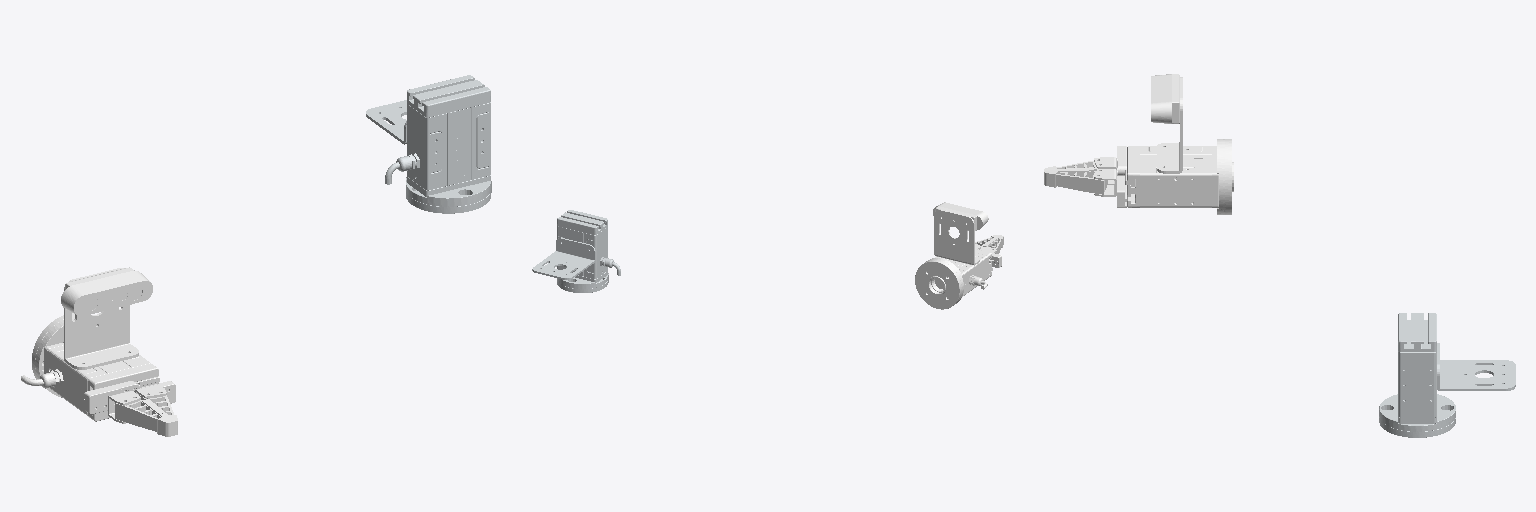
URDF robot description (fr3):
<?xml version="1.0" encoding="utf-8" ?>

<robot name="fr3" xmlns:xacro="http://ros.org/wiki/xacro">
    <link name="base_link">
        
<inertial>
            <origin rpy="0 0 0" xyz="-0.00049027 -0.00045095 0.032527" />
            <mass value="0.78393" />
            <inertia ixx="0.0013854" ixy="1.1455E-05" ixz="-1.0642E-05" iyy="0.0013849" iyz="-9.7435E-06" izz="0.001977" />
        </inertial>

        <visual>
            <origin rpy="0 0 0" xyz="0 0 0" />
            <geometry>
                <mesh filename="package://frcobot_description/meshes/fr3v6/visual/base_link.STL" />
            </geometry>
            <material name="">
                <color rgba="0.89804 0.91765 0.92941 1" />
            </material>
        </visual>
        <collision>
            <origin rpy="0 0 0" xyz="0 0 0" />
            <geometry>
                <mesh filename="package://frcobot_description/meshes/fr3v6/visual/base_link.STL" />
            </geometry>
        </collision>
    </link>
    <link name="link1">
        
<inertial>
            <origin rpy="0 0 0" xyz="-3.8658E-07 -0.0024176 0.13519" />
            <mass value="0.021225" />
            <inertia ixx="0.0033227" ixy="-5.0648E-08" ixz="-6.3401E-09" iyy="0.0032419" iyz="4.3768E-05" izz="0.0023129" />
        </inertial>

        <visual>
            <origin rpy="0 0 0" xyz="0 0 0" />
            <geometry>
                <mesh filename="package://frcobot_description/meshes/fr3v6/visual/link1.STL" />
            </geometry>
            <material name="">
                <color rgba="0.89804 0.91765 0.92941 1" />
            </material>
        </visual>
        <collision>
            <origin rpy="0 0 0" xyz="0 0 0" />
            <geometry>
                <mesh filename="package://frcobot_description/meshes/fr3v6/visual/link1.STL" />
            </geometry>
        </collision>
    </link>
    <joint name="joint1" type="revolute">
        <origin rpy="0 0 0" xyz="0 0 0" />
        <parent link="base_link" />
        <child link="link1" />
        <axis xyz="0 0 1" />
        <limit effort="28" lower="-3.14" upper="3.14" velocity="3.2" />
    </joint>
    <link name="link2">
        
<inertial>
            <origin rpy="0 0 0" xyz="-0.14111 3.4656E-06 0.11053" />
            <mass value="0.048053" />
            <inertia ixx="0.0075945" ixy="3.7143E-07" ixz="-7.9228E-12" iyy="0.0081317" iyz="-1.2918E-11" izz="0.0059231" />
        </inertial>

        <visual>
            <origin rpy="0 0 0" xyz="0 0 0" />
            <geometry>
                <mesh filename="package://frcobot_description/meshes/fr3v6/visual/link2.STL" />
            </geometry>
            <material name="">
                <color rgba="0.89804 0.91765 0.92941 1" />
            </material>
        </visual>
        <collision>
            <origin rpy="0 0 0" xyz="0 0 0" />
            <geometry>
                <mesh filename="package://frcobot_description/meshes/fr3v6/visual/link2.STL" />
            </geometry>
        </collision>
    </link>
    <joint name="joint2" type="revolute">
        <origin rpy="1.5708 0 0" xyz="0 0 0.1407034" />
        <parent link="link1" />
        <child link="link2" />
        <axis xyz="0 0 1" />
        <limit effort="28" lower="-3.14" upper="3.14" velocity="3.2" />
    </joint>
    <link name="link3">
        
<inertial>
            <origin rpy="0 0 0" xyz="-0.18987 5.2268E-06 0.0034145" />
            <mass value="0.022312" />
            <inertia ixx="0.0028852" ixy="7.3389E-07" ixz="-3.5373E-05" iyy="0.0035145" iyz="-2.8527E-07" izz="0.0029186" />
        </inertial>

        <visual>
            <origin rpy="0 0 0" xyz="0 0 0" />
            <geometry>
                <mesh filename="package://frcobot_description/meshes/fr3v6/visual/link3.STL" />
            </geometry>
            <material name="">
                <color rgba="0.89804 0.91765 0.92941 1" />
            </material>
        </visual>
        <collision>
            <origin rpy="0 0 0" xyz="0 0 0" />
            <geometry>
                <mesh filename="package://frcobot_description/meshes/fr3v6/visual/link3.STL" />
            </geometry>
        </collision>
    </link>
    <joint name="joint3" type="revolute">
        <origin rpy="0 0 0" xyz="-0.2802789 0 0" />
        <parent link="link2" />
        <child link="link3" />
        <axis xyz="0 0 1" />
        <limit effort="28" lower="-3.14" upper="3.14" velocity="3.2" />
    </joint>
    <link name="link4">
        
<inertial>
            <origin rpy="0 0 0" xyz="4.5665E-07 -0.0034666 0.098292" />
            <mass value="0.015961" />
            <inertia ixx="0.0020112" ixy="6.8085E-09" ixz="2.4945E-08" iyy="0.0014524" iyz="3.2511E-05" izz="0.0019076" />
        </inertial>

        <visual>
            <origin rpy="0 0 0" xyz="0 0 0" />
            <geometry>
                <mesh filename="package://frcobot_description/meshes/fr3v6/visual/link4.STL" />
            </geometry>
            <material name="">
                <color rgba="0.89804 0.91765 0.92941 1" />
            </material>
        </visual>
        <collision>
            <origin rpy="0 0 0" xyz="0 0 0" />
            <geometry>
                <mesh filename="package://frcobot_description/meshes/fr3v6/visual/link4.STL" />
            </geometry>
        </collision>
    </link>
    <joint name="joint4" type="revolute">
        <origin rpy="0 0 0" xyz="-0.2413385 0 0" />
        <parent link="link3" />
        <child link="link4" />
        <axis xyz="0 0 1" />
        <limit effort="28" lower="-3.14" upper="3.14" velocity="3.2" />
    </joint>
    <link name="link5">
        
<inertial>
            <origin rpy="0 0 0" xyz="-4.5262E-07 0.0034666 0.098292" />
            <mass value="0.015961" />
            <inertia ixx="0.0020112" ixy="6.8086E-09" ixz="-2.4945E-08" iyy="0.0014524" iyz="-3.2511E-05" izz="0.0019076" />
        </inertial>

        <visual>
            <origin rpy="0 0 0" xyz="0 0 0" />
            <geometry>
                <mesh filename="package://frcobot_description/meshes/fr3v6/visual/link5.STL" />
            </geometry>
            <material name="">
                <color rgba="0.89804 0.91765 0.92941 1" />
            </material>
        </visual>
        <collision>
            <origin rpy="0 0 0" xyz="0 0 0" />
            <geometry>
                <mesh filename="package://frcobot_description/meshes/fr3v6/visual/link5.STL" />
            </geometry>
        </collision>
    </link>
    <joint name="joint5" type="revolute">
        <origin rpy="1.5708 0 0" xyz="0 0 0.1034055" />
        <parent link="link4" />
        <child link="link5" />
        <axis xyz="0 0 1" />
        <limit effort="28" lower="-3.14" upper="3.14" velocity="3.2" />
    </joint>
    <link name="link6">
        
<inertial>
            <origin rpy="0 0 0" xyz="7.559E-05 1.3858E-05 0.076619" />
            <mass value="0.053877" />
            <inertia ixx="0.00028785" ixy="-2.0584E-09" ixz="-1.3892E-07" iyy="0.00028896" iyz="1.8115E-07" izz="0.00042655" />
        </inertial>

        <visual>
            <origin rpy="0 0 0" xyz="0 0 0" />
            <geometry>
                <mesh filename="package://frcobot_description/meshes/fr3v6/visual/link6.STL" />
            </geometry>
            <material name="">
                <color rgba="0.89804 0.91765 0.92941 1" />
            </material>
        </visual>
        <collision>
            <origin rpy="0 0 0" xyz="0 0 0" />
            <geometry>
                <mesh filename="package://frcobot_description/meshes/fr3v6/visual/link6.STL" />
            </geometry>
        </collision>
    </link>
    <joint name="joint6" type="revolute">
        <origin rpy="-1.5708 0 0" xyz="0 0 0.1024258" />
        <parent link="link5" />
        <child link="link6" />
        <axis xyz="0 0 1" />
        <limit effort="28" lower="-3.14" upper="3.14" velocity="3.2" />
    </joint>
    <!--gripper-->
    <link name="gripper_base_link">
        
<inertial>
            <origin xyz="-0.0004684975887838 0.00303048592831926 0.0502886435926091" rpy="0 0 0" />
            <mass value="0.0338451530379819" />
            <inertia ixx="0.000176005566867876" ixy="-6.64408835735538E-09" ixz="1.13135832689069E-07" iyy="0.000237259038170363" iyz="1.89171837600438E-06" izz="0.000213929505027592" />
        </inertial>

        <visual>
            <origin xyz="0 0 0" rpy="0 0 0" />
            <geometry>
                <mesh filename="package://gripper_description/meshes/base_link.STL" />
            </geometry>
            <material name="">
                <color rgba="1 1 1 1" />
            </material>
        </visual>
        <collision>
            <origin xyz="0 0 0" rpy="0 0 0" />
            <geometry>
                <mesh filename="package://gripper_description/meshes/base_link.STL" />
            </geometry>
        </collision>
    </link>
    <link name="Gripper_Link1">
        
<inertial>
            <origin xyz="0.0280069393107553 0.00611122757021528 -0.00200684068788289" rpy="0 0 0" />
            <mass value="0.00252253473341853" />
            <inertia ixx="3.64693126790912E-06" ixy="-1.25306744959638E-08" ixz="-6.52209709686841E-07" iyy="7.00716884133288E-06" iyz="1.03549055739974E-07" izz="4.79349978637373E-06" />
        </inertial>

        <visual>
            <origin xyz="0 0 0" rpy="0 0 0" />
            <geometry>
                <mesh filename="package://gripper_description/meshes/Gripper_Link1.STL" />
            </geometry>
            <material name="">
                <color rgba="1 1 1 1" />
            </material>
        </visual>
        <collision>
            <origin xyz="0 0 0" rpy="0 0 0" />
            <geometry>
                <mesh filename="package://gripper_description/meshes/Gripper_Link1.STL" />
            </geometry>
        </collision>
    </link>
    <joint name="Gripper_Joint1" type="prismatic">
        <origin xyz="0.00947 -0.009 0.10472" rpy="0 -1.5708 0" />
        <parent link="gripper_base_link" />
        <child link="Gripper_Link1" />
        <axis xyz="0 0 1" />
        <limit lower="-1" upper="1" effort="1" velocity="1" />
    </joint>
    <link name="Gripper_Link2">
        
<inertial>
            <origin xyz="0.0280069393107553 0.00611122757021521 -0.00200684068788287" rpy="0 0 0" />
            <mass value="0.00252253473341853" />
            <inertia ixx="3.64693126790912E-06" ixy="-1.25306744959344E-08" ixz="-6.52209709686843E-07" iyy="7.00716884133288E-06" iyz="1.03549055739979E-07" izz="4.79349978637373E-06" />
        </inertial>

        <visual>
            <origin xyz="0 0 0" rpy="0 0 0" />
            <geometry>
                <mesh filename="package://gripper_description/meshes/Gripper_Link2.STL" />
            </geometry>
            <material name="">
                <color rgba="1 1 1 1" />
            </material>
        </visual>
        <collision>
            <origin xyz="0 0 0" rpy="0 0 0" />
            <geometry>
                <mesh filename="package://gripper_description/meshes/Gripper_Link2.STL" />
            </geometry>
        </collision>
    </link>
    <joint name="Gripper_Joint2" type="prismatic">
        <origin xyz="-0.00947 0.009 0.10472" rpy="3.1416 -1.5708 0" />
        <parent link="gripper_base_link" />
        <child link="Gripper_Link2" />
        <axis xyz="0 0 1" />
        <limit lower="-1" upper="1" effort="1" velocity="1" />
    </joint>
    <link name="Camera_Link3">
        
<inertial>
            <origin xyz="-6.45917661786042E-06 -2.58386344099554E-05 0.0147332789871856" rpy="0 0 0" />
            <mass value="0.00547058531734444" />
            <inertia ixx="6.23440458905677E-06" ixy="4.47738142991786E-11" ixz="5.1211068270788E-09" iyy="3.30237698271353E-05" iyz="2.48412900210222E-08" izz="3.17409016851319E-05" />
        </inertial>

        <visual>
            <origin xyz="0 0 0" rpy="0 0 0" />
            <geometry>
                <mesh filename="package://gripper_description/meshes/Camera_Link3.STL" />
            </geometry>
            <material name="">
                <color rgba="1 1 1 1" />
            </material>
        </visual>
        <collision>
            <origin xyz="0 0 0" rpy="0 0 0" />
            <geometry>
                <mesh filename="package://gripper_description/meshes/Camera_Link3.STL" />
            </geometry>
        </collision>
    </link>
    <joint name="Camera_Joint3" type="fixed">
        <origin xyz="0 0.08948 0.05452" rpy="0 0 0" />
        <parent link="gripper_base_link" />
        <child link="Camera_Link3" />
        <axis xyz="0 0 0" />
    </joint>
    <joint name="gripper_joint" type="fixed">
        <parent link="link6" />
        <child link="gripper_base_link" />
        <origin xyz="0 0 0.09" rpy="0 0 0" />
    </joint>
    <link name="world" />
    <joint name="world_joint" type="fixed">
        <parent link="world" />
        <child link="base_link" />
        <origin xyz="0 0 0.15" rpy="0.0 0.0 0.0" />
    </joint>

    <gazebo reference="gripper_base_link">
        <material>Gazebo/Grey</material>
    </gazebo>

    <gazebo reference="Gripper_Link2">
        <material>Gazebo/Grey</material>
    </gazebo>

    <gazebo reference="Gripper_Link1">
        <material>Gazebo/Grey</material>
    </gazebo>

    <!-- add camera-->
    <link name="camera_link">
        <origin rpy="0 0 0" xyz="0 0 0" />
        <visual>
            <origin rpy="1.57 0 1.57" xyz="0 0 0" />
            <geometry>
                <mesh filename="package://frcobot_description/meshes/d435i.dae" />
            </geometry>
        </visual>
        <!-- <collision>
        <geometry>
          <box size="0.07 0.3 0.09"/>
        </geometry>
      </collision> -->
    </link>
    <joint name="camera_optical_joint" type="fixed">
        <origin rpy="-1.5708 0 -1.5708" xyz="0 0 0" />
        <parent link="camera_link" />
        <child link="camera_frame_optical" />
    </joint>
    <link name="camera_frame_optical" />
    <joint name="camera_joint" type="fixed">
        <origin rpy="3.1415 1.5708 0" xyz="-0.3 0.0 0.7" />
        <parent link="base_link" />
        <child link="camera_link" />
    </joint>
    <gazebo reference="camera_link">
        <sensor name="camera" type="depth">
            <always_on>true</always_on>
            <update_rate>20.0</update_rate>
            <camera>
                <horizontal_fov>1.04</horizontal_fov>
                <image>
                    <format>R8G8B8</format>
                    <width>640</width>
                    <height>480</height>
                </image>
                <clip>
                    <near>0.05</near>
                    <far>8.0</far>
                </clip>
            </camera>
            <plugin filename="libgazebo_ros_openni_kinect.so" name="kinect_camera_controller">
                <cameraName>/camera</cameraName>
                <alwaysOn>true</alwaysOn>
                <updateRate>10</updateRate>
                <imageTopicName>rgb/image_raw</imageTopicName>
                <depthImageTopicName>depth/image_raw</depthImageTopicName>
                <pointCloudTopicName>depth/points</pointCloudTopicName>
                <cameraInfoTopicName>rgb/camera_info</cameraInfoTopicName>
                <depthImageCameraInfoTopicName>depth/camera_info</depthImageCameraInfoTopicName>
                <frameName>camera_frame_optical</frameName>
                <baseline>0.1</baseline>
                <distortion_k1>0.0</distortion_k1>
                <distortion_k2>0.0</distortion_k2>
                <distortion_k3>0.0</distortion_k3>
                <distortion_t1>0.0</distortion_t1>
                <distortion_t2>0.0</distortion_t2>
                <pointCloudCutoff>0.05</pointCloudCutoff>
            </plugin>
        </sensor>
    </gazebo>

<transmission name="trans_joint1">
        <type>transmission_interface/SimpleTransmission</type>
        <joint name="joint1">
            <hardwareInterface>hardware_interface/PositionJointInterface</hardwareInterface>
        </joint>
        <actuator name="joint1_motor">
            <hardwareInterface>hardware_interface/PositionJointInterface</hardwareInterface>
            <mechanicalReduction>1</mechanicalReduction>
        </actuator>
    </transmission>
    <transmission name="trans_joint2">
        <type>transmission_interface/SimpleTransmission</type>
        <joint name="joint2">
            <hardwareInterface>hardware_interface/PositionJointInterface</hardwareInterface>
        </joint>
        <actuator name="joint2_motor">
            <hardwareInterface>hardware_interface/PositionJointInterface</hardwareInterface>
            <mechanicalReduction>1</mechanicalReduction>
        </actuator>
    </transmission>
    <transmission name="trans_joint3">
        <type>transmission_interface/SimpleTransmission</type>
        <joint name="joint3">
            <hardwareInterface>hardware_interface/PositionJointInterface</hardwareInterface>
        </joint>
        <actuator name="joint3_motor">
            <hardwareInterface>hardware_interface/PositionJointInterface</hardwareInterface>
            <mechanicalReduction>1</mechanicalReduction>
        </actuator>
    </transmission>
    <transmission name="trans_joint4">
        <type>transmission_interface/SimpleTransmission</type>
        <joint name="joint4">
            <hardwareInterface>hardware_interface/PositionJointInterface</hardwareInterface>
        </joint>
        <actuator name="joint4_motor">
            <hardwareInterface>hardware_interface/PositionJointInterface</hardwareInterface>
            <mechanicalReduction>1</mechanicalReduction>
        </actuator>
    </transmission>
    <transmission name="trans_joint5">
        <type>transmission_interface/SimpleTransmission</type>
        <joint name="joint5">
            <hardwareInterface>hardware_interface/PositionJointInterface</hardwareInterface>
        </joint>
        <actuator name="joint5_motor">
            <hardwareInterface>hardware_interface/PositionJointInterface</hardwareInterface>
            <mechanicalReduction>1</mechanicalReduction>
        </actuator>
    </transmission>
    <transmission name="trans_joint6">
        <type>transmission_interface/SimpleTransmission</type>
        <joint name="joint6">
            <hardwareInterface>hardware_interface/PositionJointInterface</hardwareInterface>
        </joint>
        <actuator name="joint6_motor">
            <hardwareInterface>hardware_interface/PositionJointInterface</hardwareInterface>
            <mechanicalReduction>1</mechanicalReduction>
        </actuator>
    </transmission>
    <transmission name="trans_Gripper_Joint1">
        <type>transmission_interface/SimpleTransmission</type>
        <joint name="Gripper_Joint1">
            <hardwareInterface>hardware_interface/PositionJointInterface</hardwareInterface>
        </joint>
        <actuator name="Gripper_Joint1_motor">
            <hardwareInterface>hardware_interface/PositionJointInterface</hardwareInterface>
            <mechanicalReduction>1</mechanicalReduction>
        </actuator>
    </transmission>
    <transmission name="trans_Gripper_Joint2">
        <type>transmission_interface/SimpleTransmission</type>
        <joint name="Gripper_Joint2">
            <hardwareInterface>hardware_interface/PositionJointInterface</hardwareInterface>
        </joint>
        <actuator name="Gripper_Joint2_motor">
            <hardwareInterface>hardware_interface/PositionJointInterface</hardwareInterface>
            <mechanicalReduction>1</mechanicalReduction>
        </actuator>
    </transmission>
    <gazebo>
        <plugin name="gazebo_ros_control" filename="libgazebo_ros_control.so">
            <robotNamespace>/</robotNamespace>
        </plugin>
    </gazebo>
</robot>

--- Facts derived from the render (not from the file) ---
Views: 3 orthographic renders of the robot side by side, from view 1: azimuth 30°, elevation 25°; view 2: azimuth 150°, elevation 25°; view 3: azimuth 270°, elevation 25°.
Model fr3 with 14 links and 13 joints (6 revolute, 2 prismatic, 5 fixed), rooted at world, posed every joint at zero.
Links seen in each view (by area): view 1: base_link, gripper_base_link, Camera_Link3, Gripper_Link2, Gripper_Link1; view 2: gripper_base_link, base_link, Camera_Link3; view 3: base_link, gripper_base_link, Gripper_Link1, Camera_Link3, Gripper_Link2.
Link boxes in pixels (box(x1,y1,x2,y2)): base_link: box(366, 75, 491, 213); gripper_base_link: box(21, 268, 158, 421); Camera_Link3: box(61, 267, 152, 315); Gripper_Link2: box(84, 376, 172, 436); Gripper_Link1: box(92, 381, 177, 435); gripper_base_link: box(915, 209, 991, 309); base_link: box(532, 210, 620, 292); Camera_Link3: box(933, 202, 988, 230); base_link: box(1379, 313, 1515, 437); gripper_base_link: box(1127, 77, 1233, 214); Gripper_Link1: box(1044, 169, 1126, 207); Camera_Link3: box(1151, 74, 1179, 123); Gripper_Link2: box(1044, 146, 1135, 186).
Size in the robot's own frame: 0.6296 by 0.4908 by 0.1423 metres.
5 mesh visuals loaded from 12 distinct referenced files (4 binary STL); not drawn: 7 (reference not matched to a file when rendering).